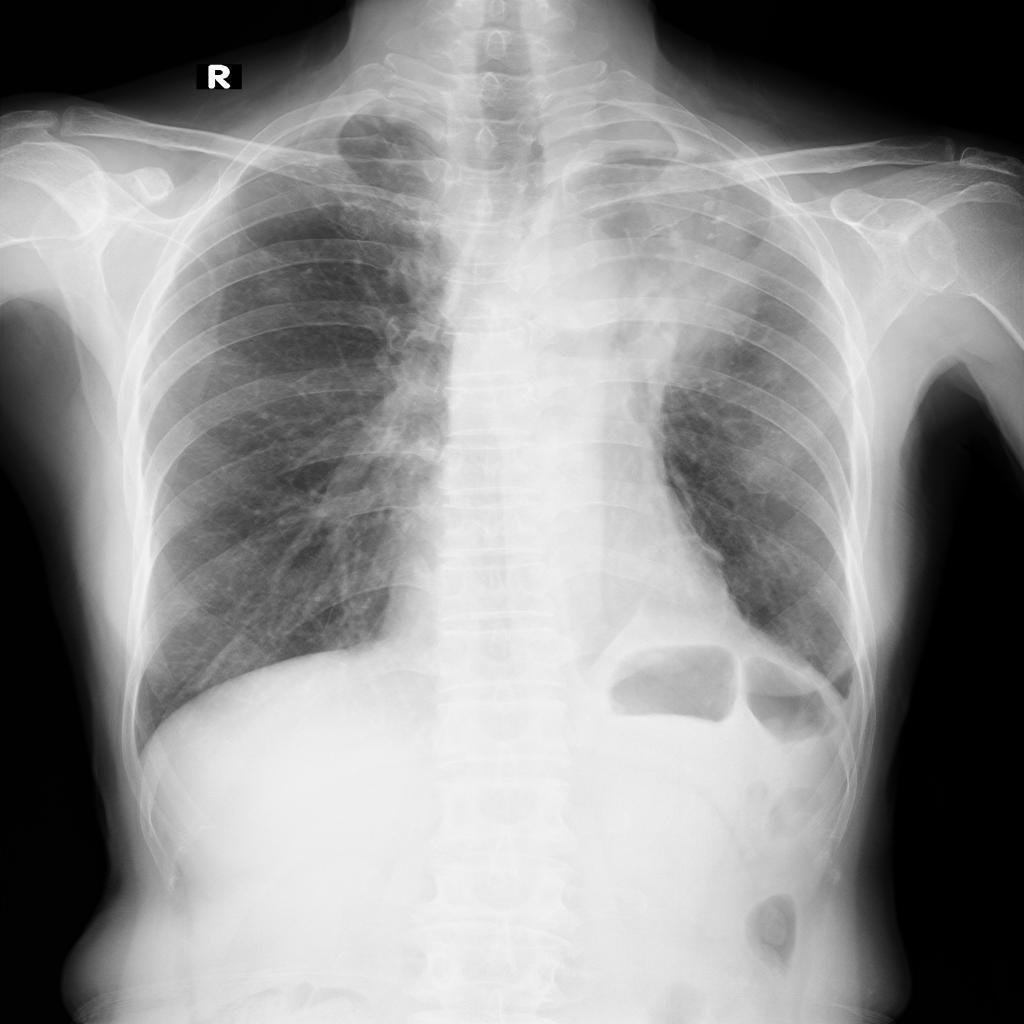Nodule: (286, 151, 327, 179), (700, 198, 718, 212), (671, 232, 684, 248), (713, 213, 727, 225), (655, 253, 668, 260), (707, 233, 716, 241)
